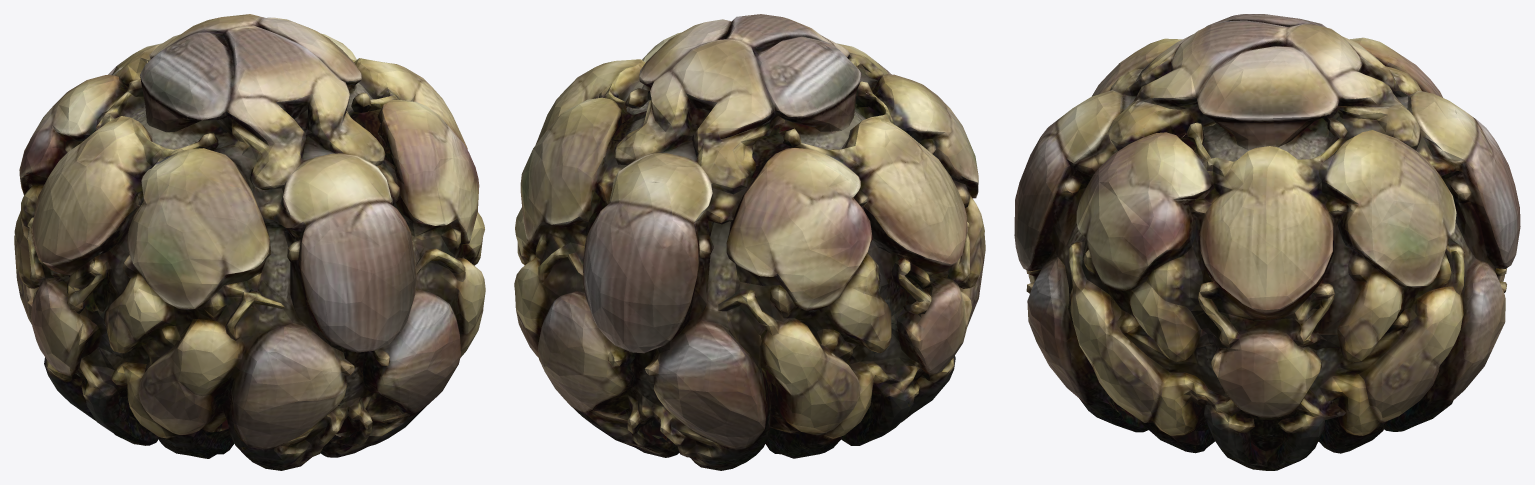
Rendered from sunScarabSwarm.glb.
3 views of the same model, side by side, from view 1: azimuth 30°, elevation 25°; view 2: azimuth 150°, elevation 25°; view 3: azimuth 270°, elevation 25° (orthographic).
Parts seen in each view (by area): view 1: world; view 2: world; view 3: world.
Part boxes in pixels (<box>): world: <box>14,14,485,470</box>; world: <box>514,14,985,470</box>; world: <box>1014,14,1520,470</box>.
Bounding box in the file's own units: 0.732 × 0.6478 × 0.7647.
Materials: 1 (1 with a texture image).
